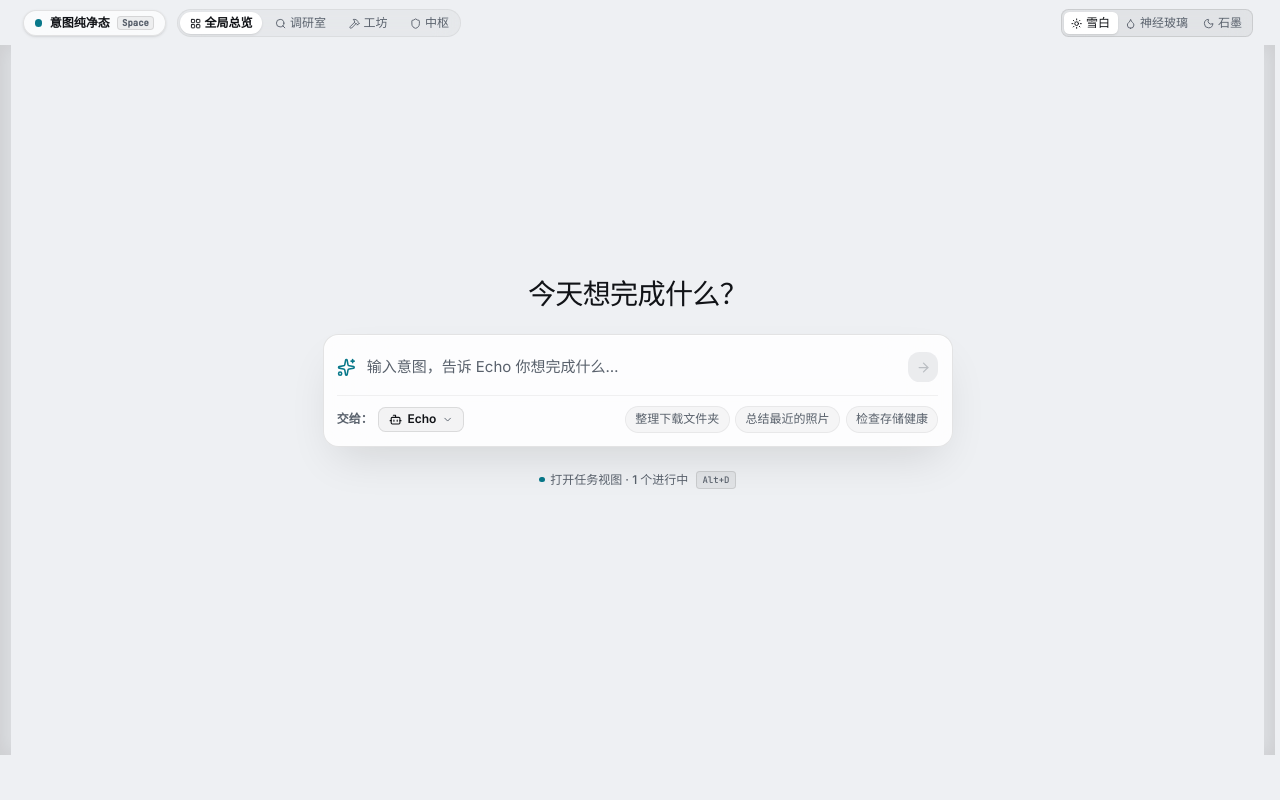
Test: IntentDesktopSurface › shows the active task count on the switcher in pure mode
Step 1. Click the button with aria-label "双态形态切换" → (637, 480), box [527,466,748,493]
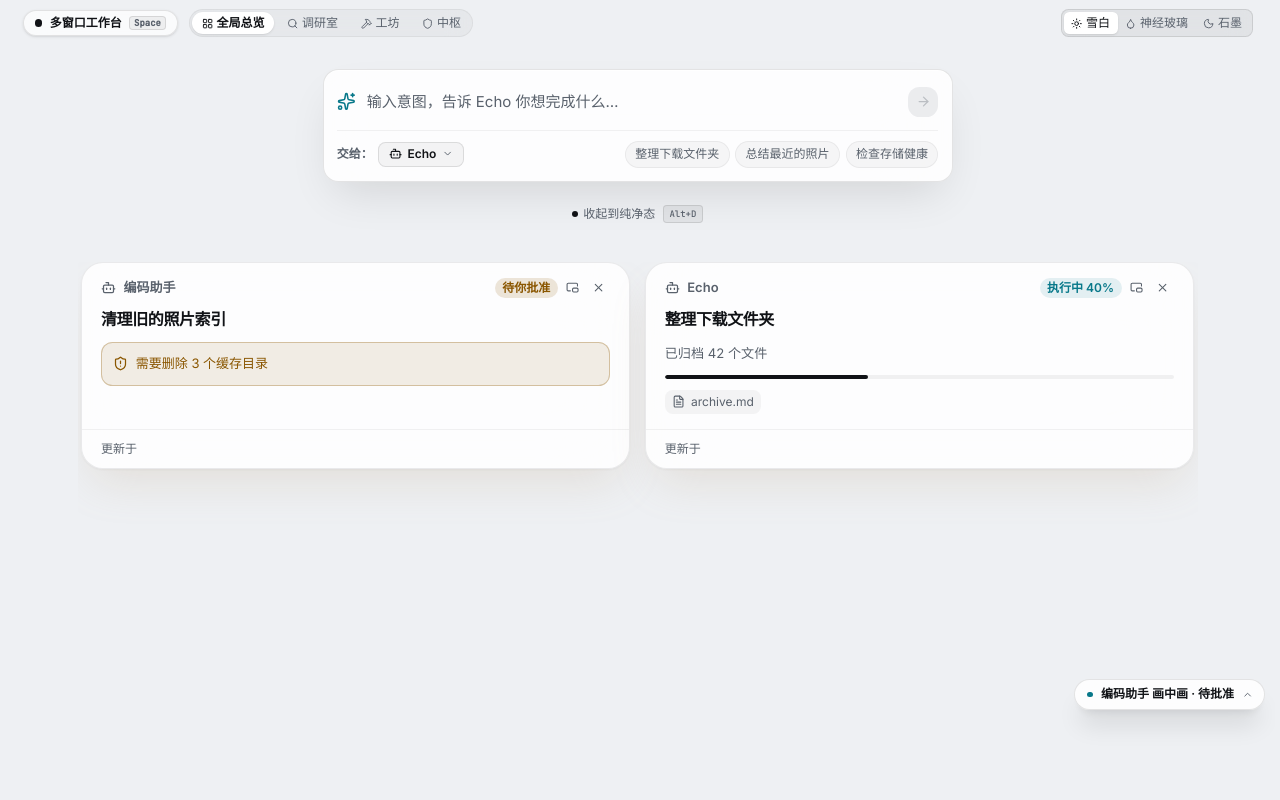
Check: the button with aria-label "双态形态切换" shows "收起到纯净态", box [560,200,715,228]
